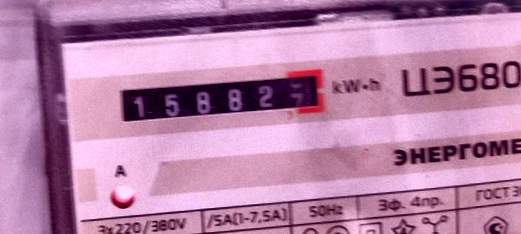1: (131, 94, 147, 119)
2: (257, 82, 275, 109)
5: (162, 91, 180, 117)
7: (289, 90, 304, 107)
8: (193, 89, 212, 114), (225, 85, 243, 111)
screen: (106, 61, 336, 136)
